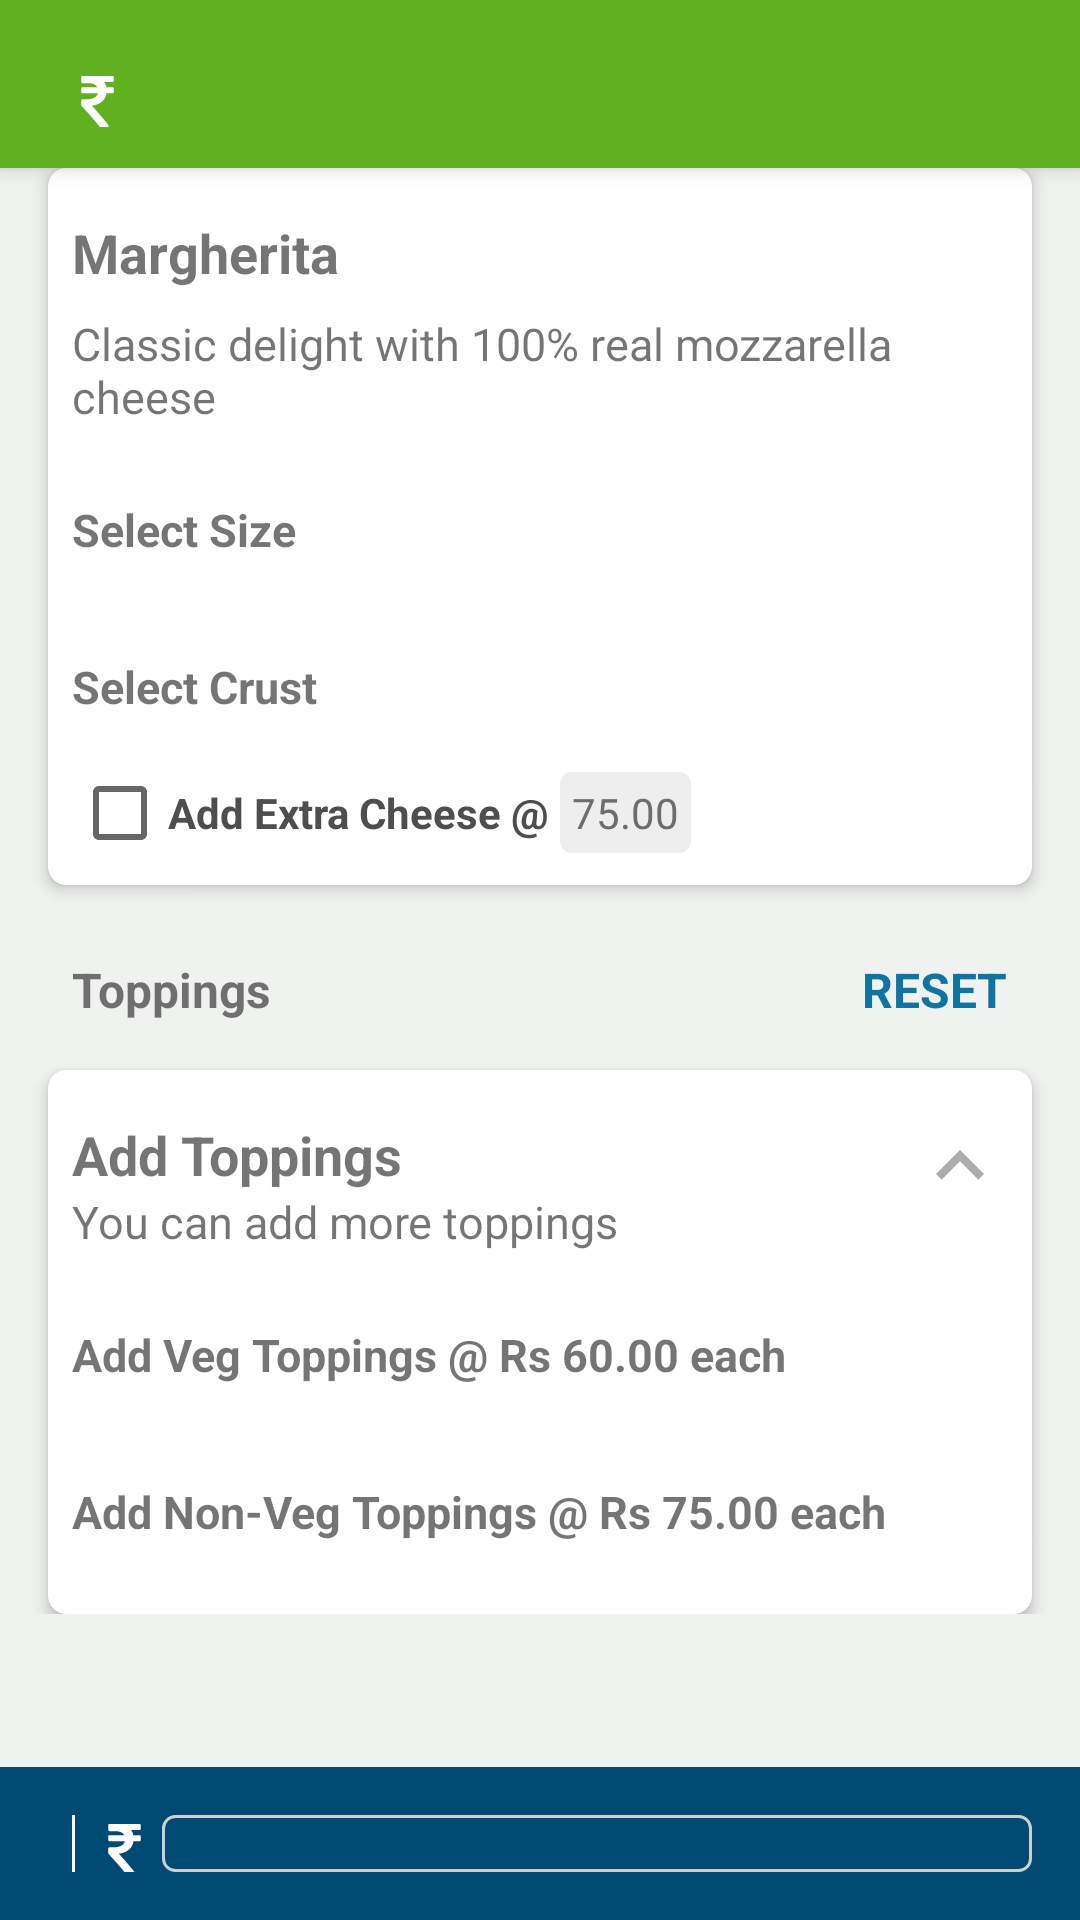

Screen size 1080px x 1920px. Icon name, then its box in pixels as [x1, y1, x2, y2]:
arrow up: [936, 1150, 984, 1180]
